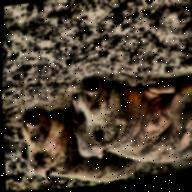boar: (67, 68, 192, 175), (18, 103, 149, 188)
